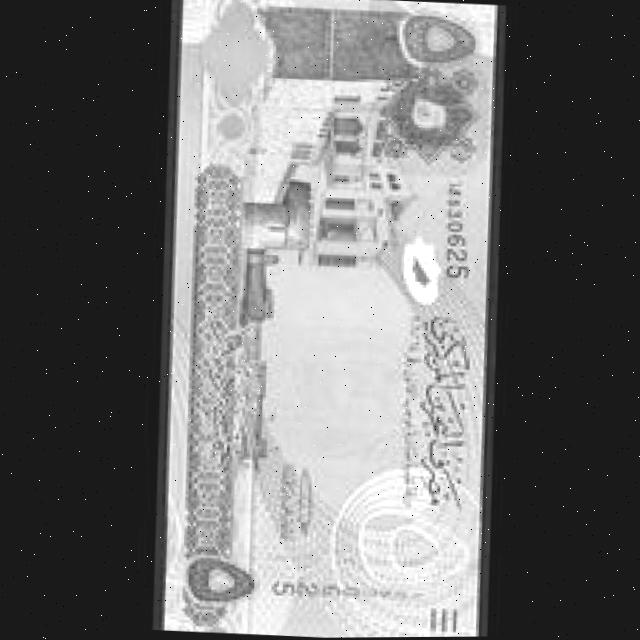banknote: (140, 0, 516, 639)
